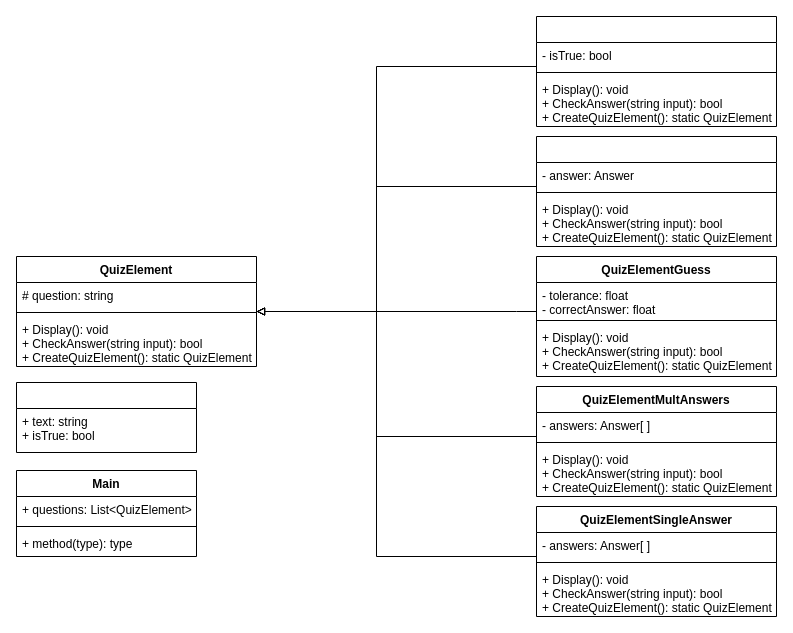
This 793x633 diagram has some shape labels left out. The shapes that lost their labels are listed below. From the top down, each one's box as (x1, y1, x2, y2) in pixels, then its label:
(536, 16, 776, 126): QuizElementTrueFalse
(536, 136, 776, 246): QuizElementText
(16, 382, 196, 452): Answer
